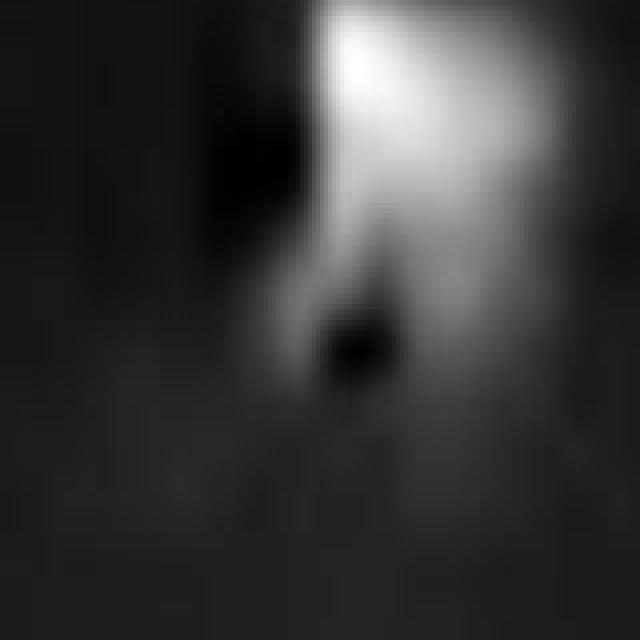person: (289, 1, 553, 433)
